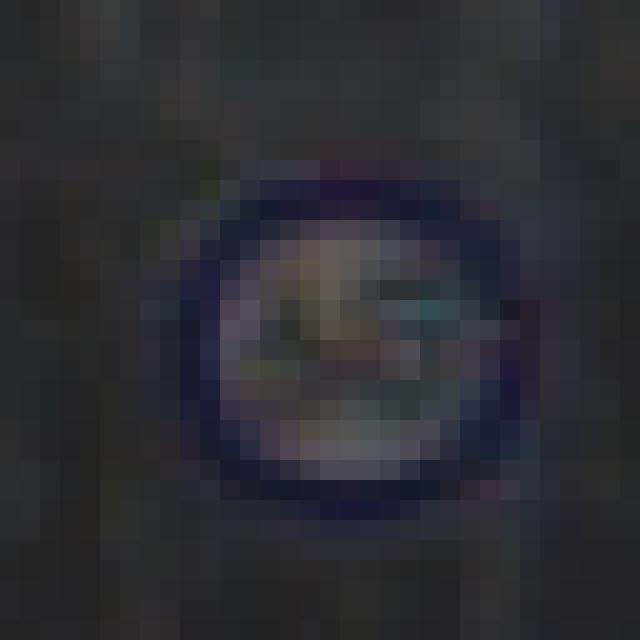SPEED-LIMIT-60: (164, 134, 562, 573)
